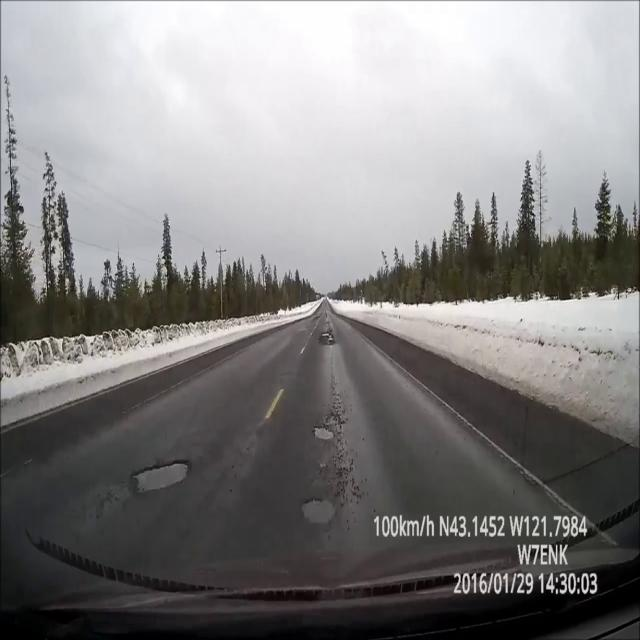Pothole: (128, 458, 192, 494), (300, 495, 338, 528), (310, 424, 338, 441), (320, 331, 334, 345), (313, 316, 320, 322), (326, 312, 328, 319)
